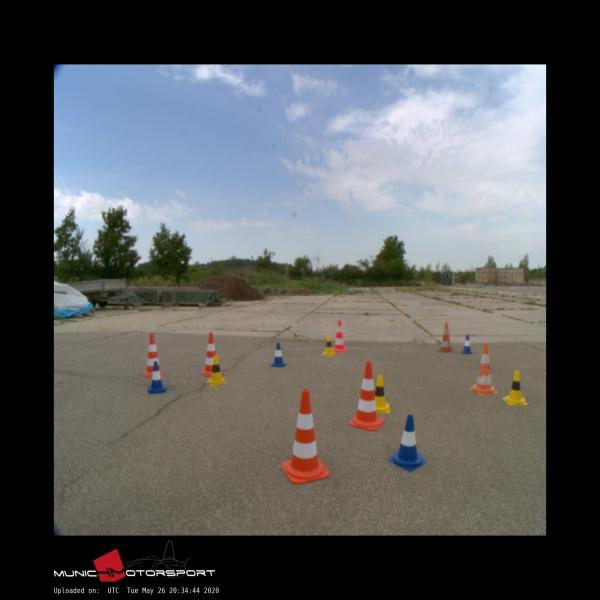blue_cone: (388, 415, 427, 471), (148, 362, 166, 393), (271, 342, 285, 366), (460, 334, 472, 354)
large_orange_cone: (282, 389, 329, 483), (348, 360, 384, 430), (470, 343, 497, 393), (142, 333, 164, 377), (202, 333, 223, 375), (333, 320, 347, 352), (439, 322, 453, 352)
yellow_cone: (502, 370, 527, 406), (372, 374, 390, 412), (207, 355, 227, 385), (321, 335, 336, 355)
